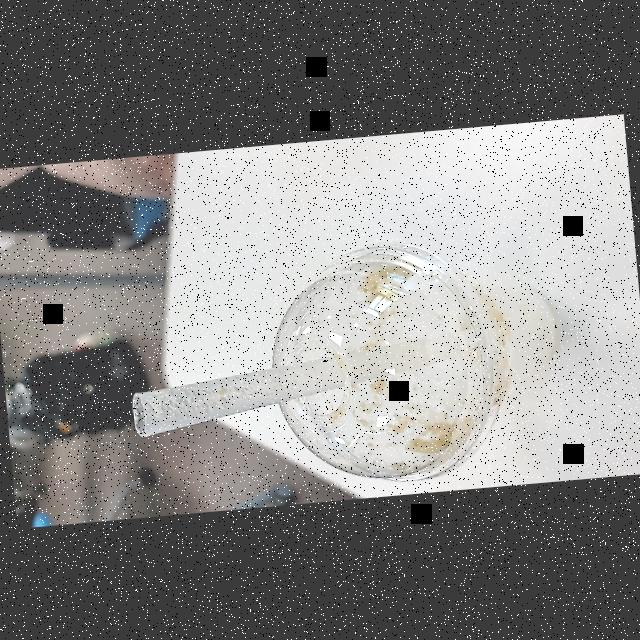plastic_cup: (260, 219, 596, 490)
plastic_cup_lid: (263, 219, 516, 493)
straw: (127, 355, 436, 428)
